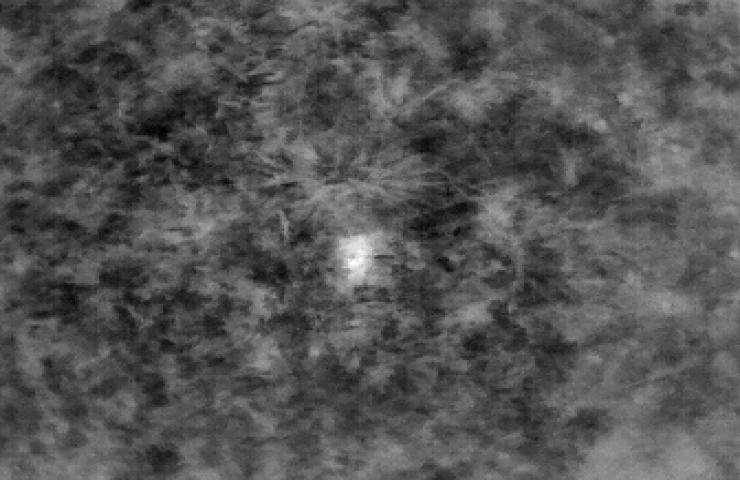landmines: (339, 232, 381, 279)
